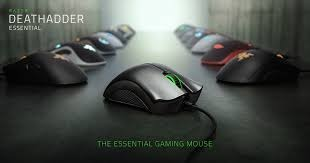mouse: (103, 62, 203, 114), (2, 50, 88, 95), (214, 48, 303, 90), (48, 38, 102, 69), (203, 41, 249, 60), (192, 33, 232, 54)
